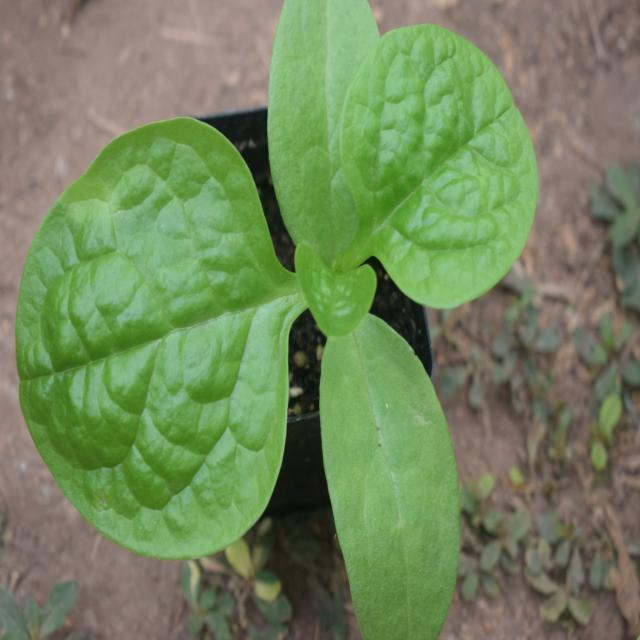Ceylon spinach: (0, 56, 525, 556)
